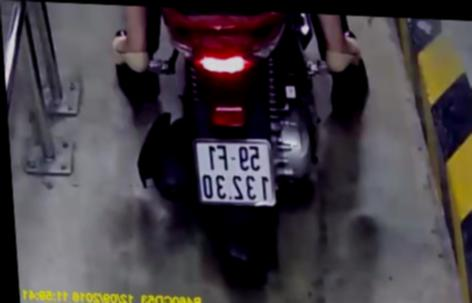License_Plate: (188, 132, 283, 213)
